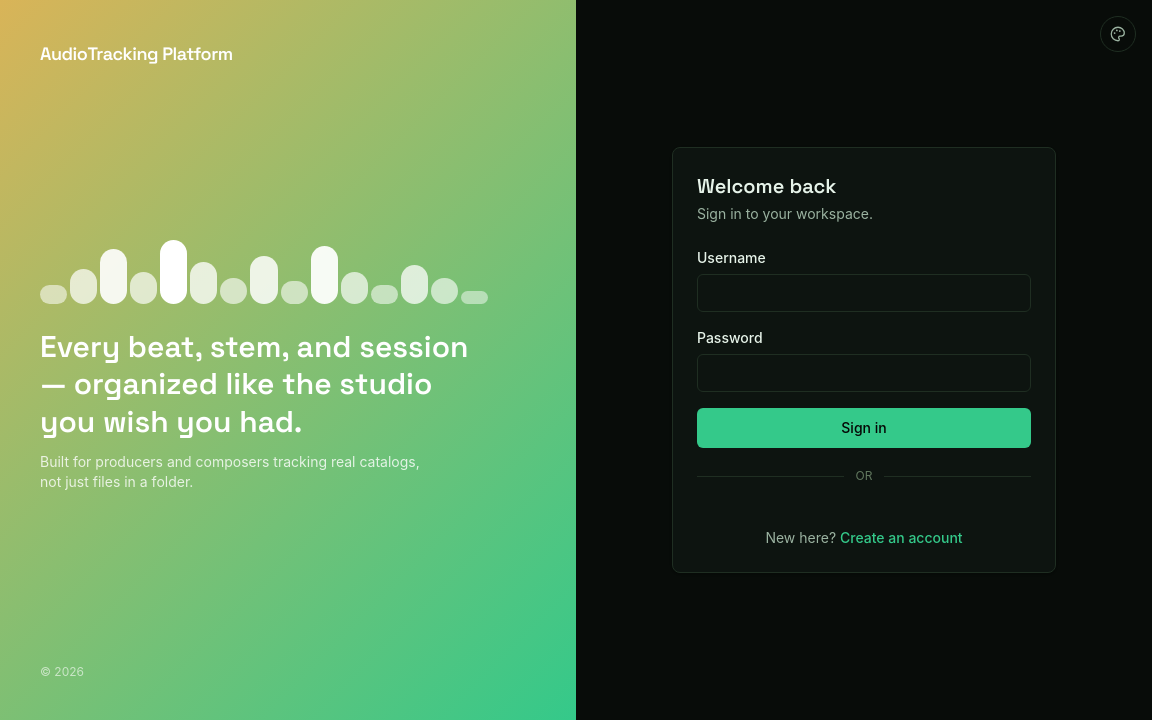
LoginPage › shows the backend error message when login fails
Type "testuser" into the field labelled "Username" at (864, 293), box [697,274,1031,312]
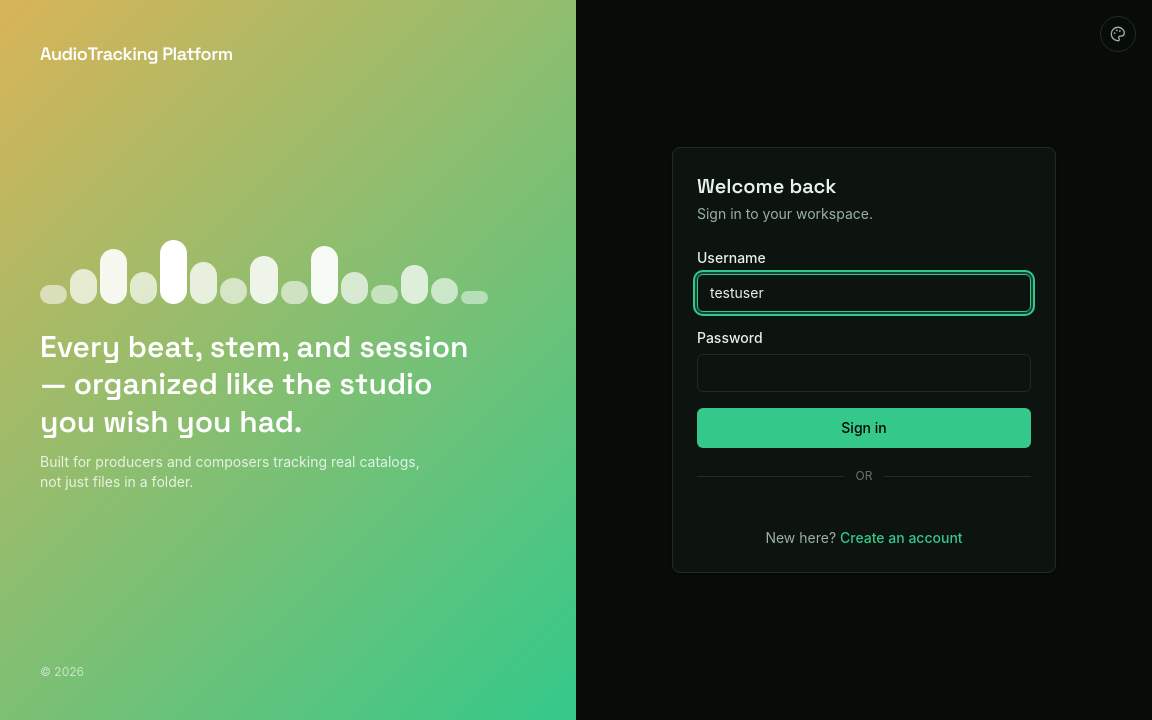
Type "wrong-password" into the password field labelled "Password" at (864, 373), box [697,354,1031,392]
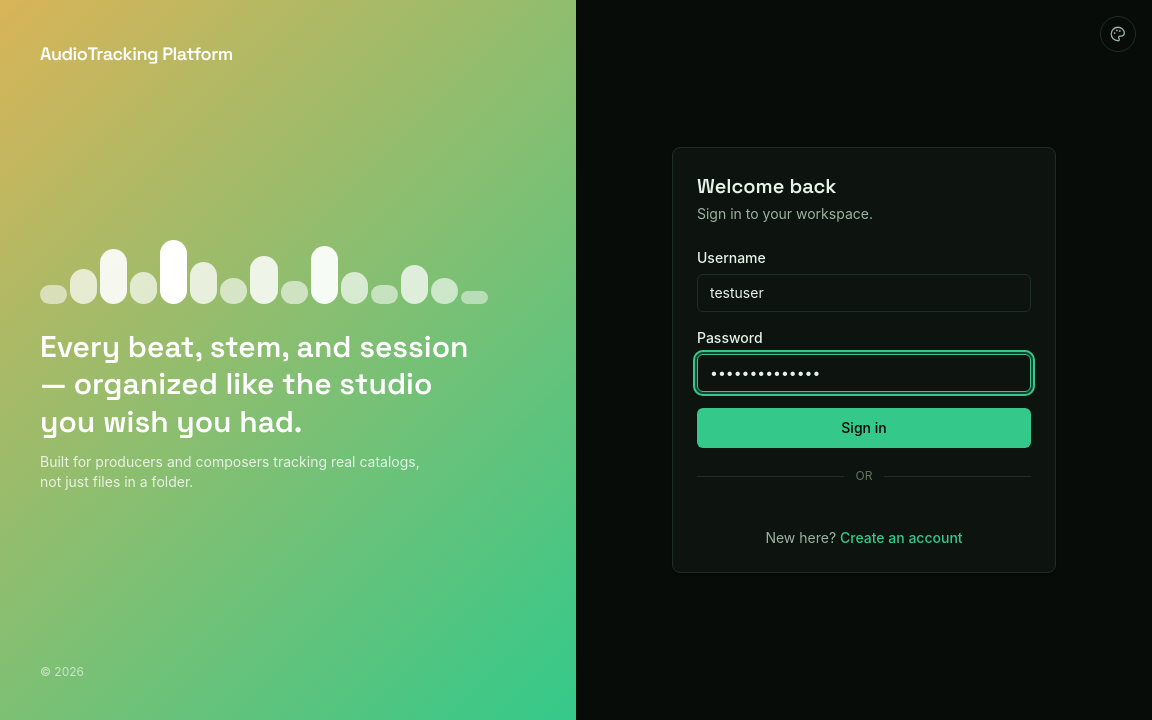
Click the button "Sign in" at (864, 428), box [697,408,1031,448]
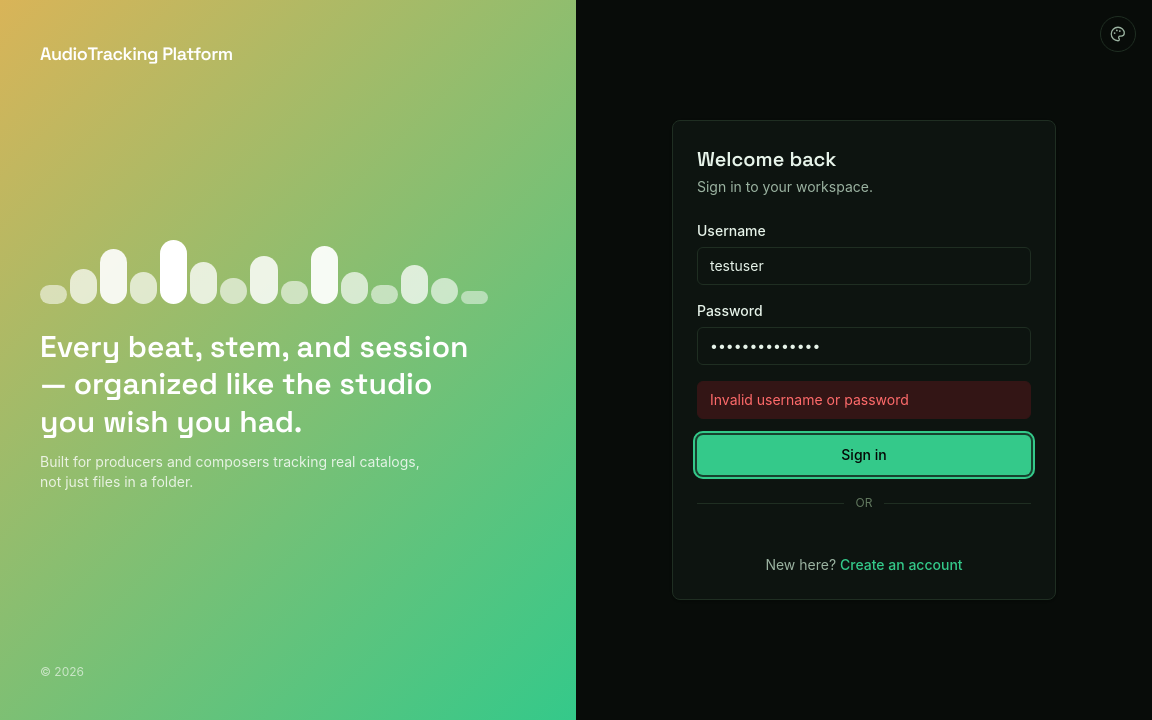
Expected: the text "Invalid username or password" is shown, [697,381,1031,419]
